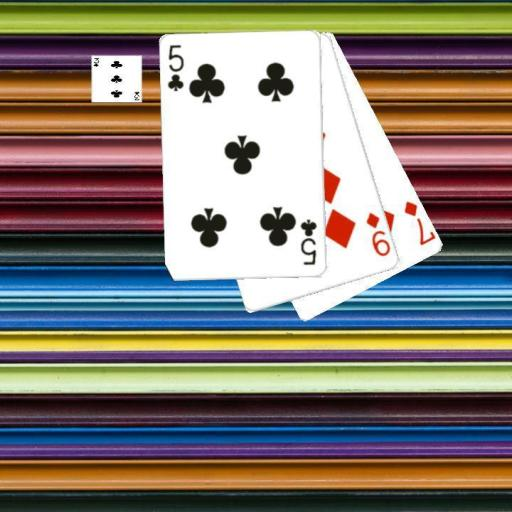card-corner: (401, 198, 436, 248), (362, 209, 392, 258), (164, 42, 186, 94), (297, 217, 319, 267)
